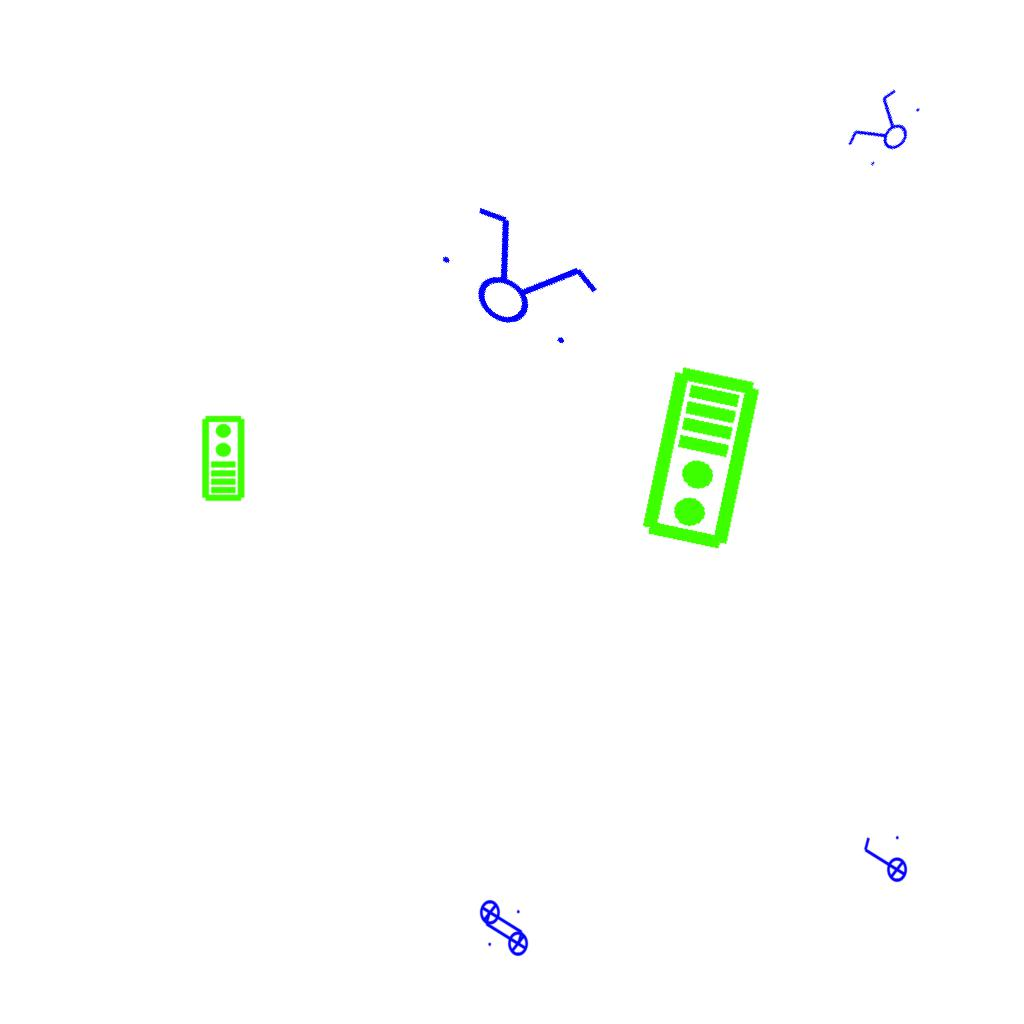Ausschalter_beleuchtet: (860, 833, 908, 889), (479, 893, 527, 949), (481, 907, 529, 963)
Gegensprechanlage_mit_Video: (637, 363, 768, 555), (199, 414, 246, 502)
Serienschalter: (420, 190, 614, 366), (839, 81, 931, 177)
